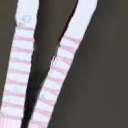crackTip: (21, 1, 78, 128)
